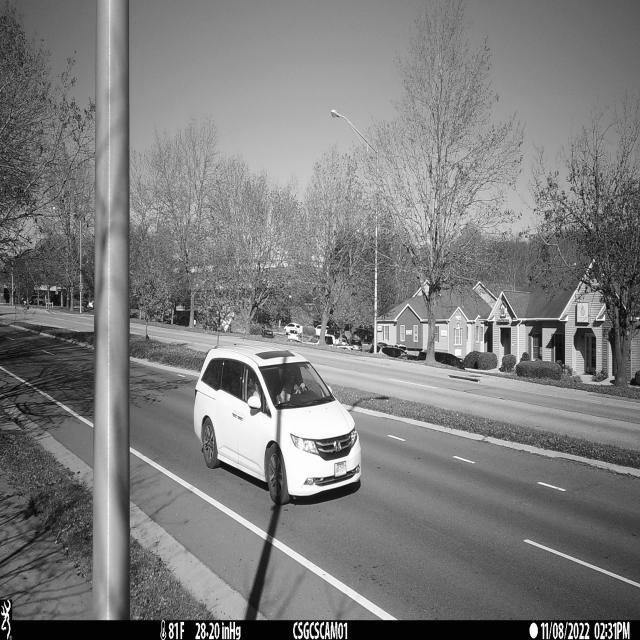Van: (193, 342, 364, 506)
